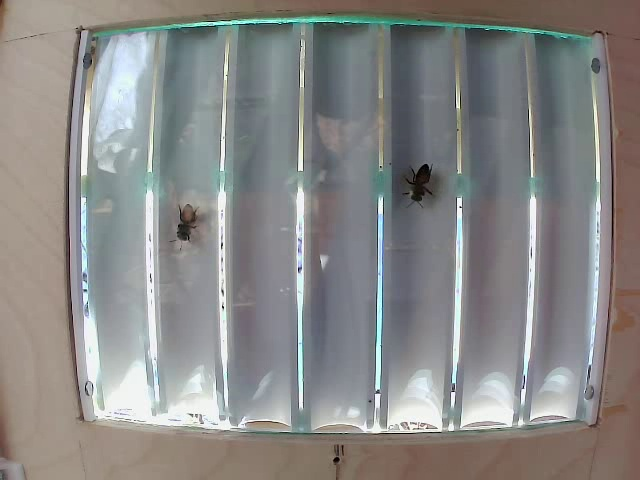bee: (166, 190, 209, 255), (397, 155, 442, 211)
